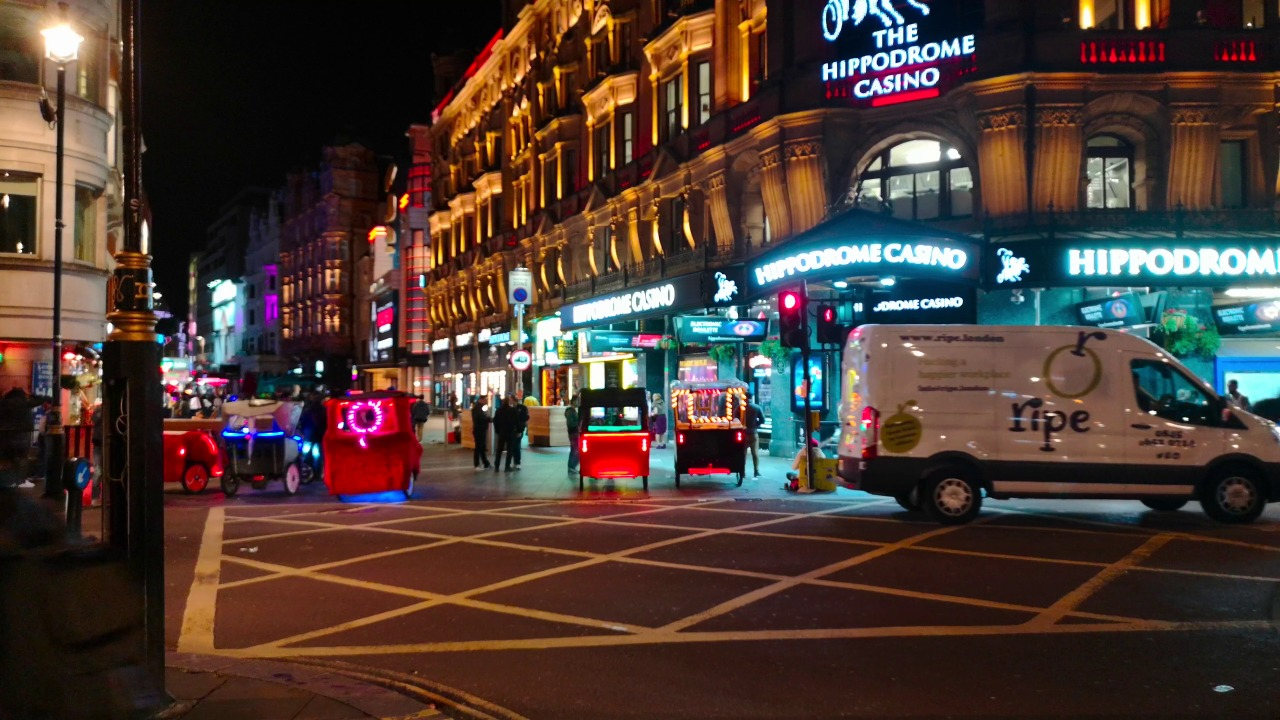car: (845, 327, 1279, 520), (330, 395, 422, 501), (231, 404, 320, 497), (587, 392, 652, 501), (682, 384, 748, 489), (170, 426, 228, 493)
person: (1, 364, 31, 493), (784, 434, 818, 495), (473, 392, 495, 472), (752, 402, 770, 479), (496, 402, 513, 475), (515, 401, 530, 473), (562, 393, 575, 472), (1227, 370, 1253, 399), (655, 392, 666, 442)
